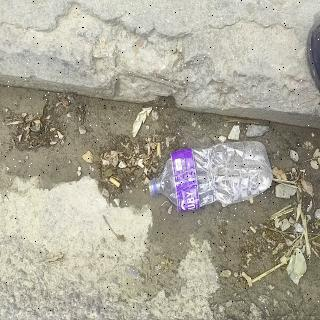Plastic-bottle: (146, 138, 276, 215)
